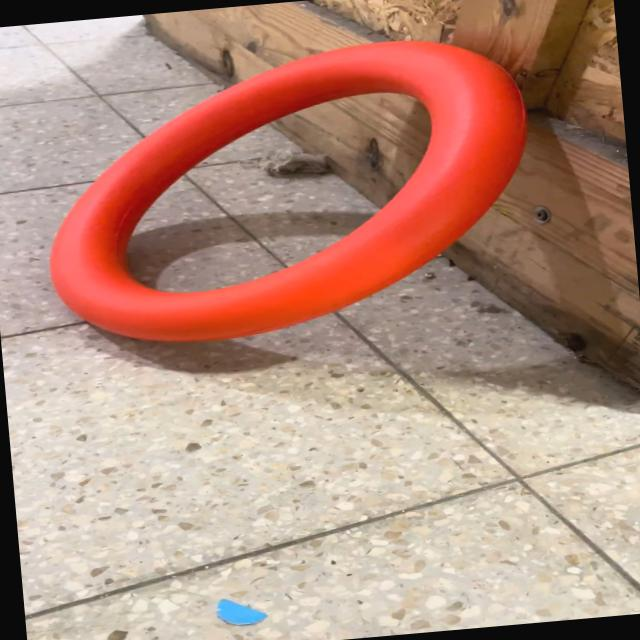note: (29, 28, 546, 358)
